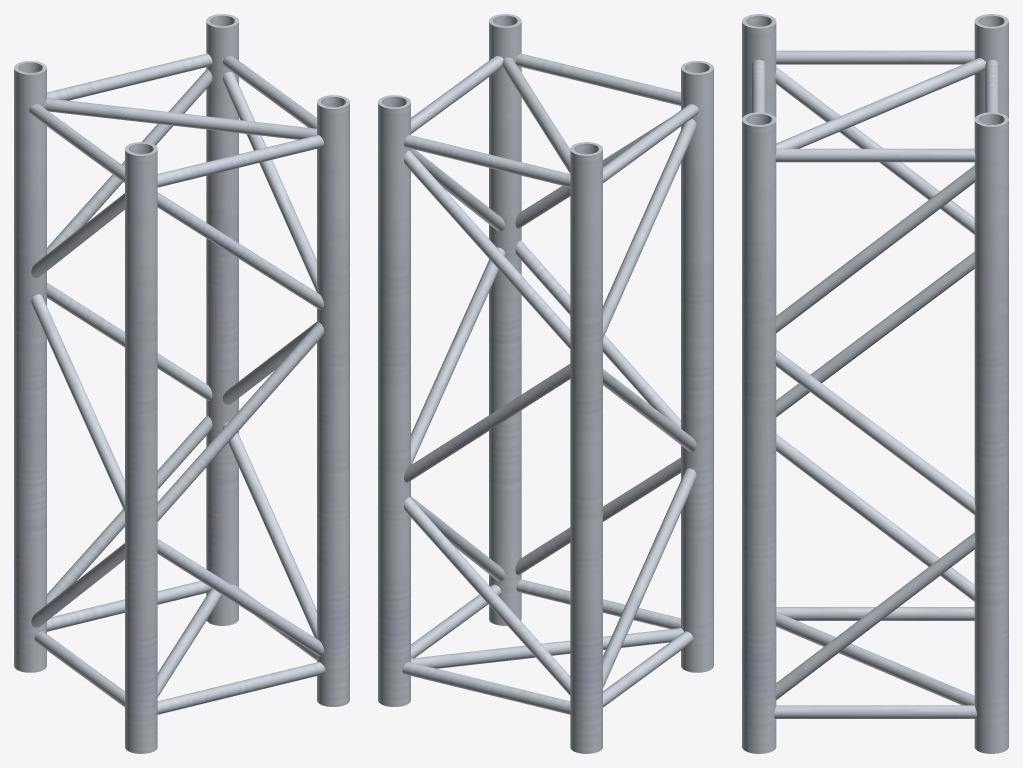
The model's file is Prolyte_H40V_1m-d890a805.glb.
3 views of the same model, side by side, from view 1: azimuth 30°, elevation 25°; view 2: azimuth 150°, elevation 25°; view 3: azimuth 270°, elevation 25° (orthographic). The views are drawn at different scales.
Visible parts, largest first — view 1: Geom3D_Component#3 (×2), Geom3D_Component#4 (×2), Geom3D_Component#9 (×6), Geom3D_Component#5 (×4), Geom3D_Component#2 (×4), Geom3D_Component#6 (×2), Geom3D_Component#10, Geom3D (×2), Geom3D_Component#12, Geom3D_Component#11; view 2: Geom3D_Component#4 (×2), Geom3D_Component#3 (×2), Geom3D_Component#9 (×6), Geom3D_Component#5 (×4), Geom3D_Component#2 (×4), Geom3D_Component#6 (×2), Geom3D (×3), Geom3D_Component#12, Geom3D_Component#10, Geom3D_Component#11; view 3: Geom3D_Component#4 (×2), Geom3D_Component#3 (×2), Geom3D_Component#9 (×6), Geom3D (×3), Geom3D_Component#10, Geom3D_Component#12, Geom3D_Component#11, Geom3D_Component#2 (×2).
Boxes of the visible parts, left/top/right/bottom form: Geom3D_Component#3 (×2): left=14, top=61, right=349, bottom=706; Geom3D_Component#4 (×2): left=125, top=14, right=238, bottom=753; Geom3D_Component#9 (×6): left=31, top=72, right=316, bottom=638; Geom3D_Component#5 (×4): left=47, top=69, right=323, bottom=656; Geom3D_Component#2 (×4): left=47, top=53, right=325, bottom=714; Geom3D_Component#6 (×2): left=47, top=282, right=323, bottom=521; Geom3D_Component#10: left=44, top=98, right=316, bottom=139; Geom3D (×2): left=29, top=56, right=316, bottom=182; Geom3D_Component#12: left=157, top=588, right=222, bottom=696; Geom3D_Component#11: left=34, top=631, right=124, bottom=707; Geom3D_Component#4 (×2): left=378, top=61, right=713, bottom=706; Geom3D_Component#3 (×2): left=489, top=14, right=602, bottom=753; Geom3D_Component#9 (×6): left=411, top=119, right=696, bottom=687; Geom3D_Component#5 (×4): left=404, top=118, right=680, bottom=695; Geom3D_Component#2 (×4): left=402, top=53, right=680, bottom=714; Geom3D_Component#6 (×2): left=404, top=240, right=680, bottom=482; Geom3D (×3): left=411, top=56, right=698, bottom=658; Geom3D_Component#12: left=411, top=628, right=683, bottom=668; Geom3D_Component#10: left=502, top=57, right=570, bottom=173; Geom3D_Component#11: left=603, top=631, right=693, bottom=707; Geom3D_Component#4 (×2): left=742, top=14, right=1008, bottom=753; Geom3D_Component#3 (×2): left=742, top=14, right=1008, bottom=753; Geom3D_Component#9 (×6): left=775, top=67, right=975, bottom=699; Geom3D (×3): left=774, top=50, right=976, bottom=718; Geom3D_Component#10: left=776, top=58, right=985, bottom=148; Geom3D_Component#12: left=776, top=612, right=974, bottom=705; Geom3D_Component#11: left=776, top=607, right=974, bottom=620; Geom3D_Component#2 (×2): left=752, top=59, right=998, bottom=112.
Bounding box in the file's own units: 0.3859 × 1 × 0.3858.
1 material, 1 textured.
